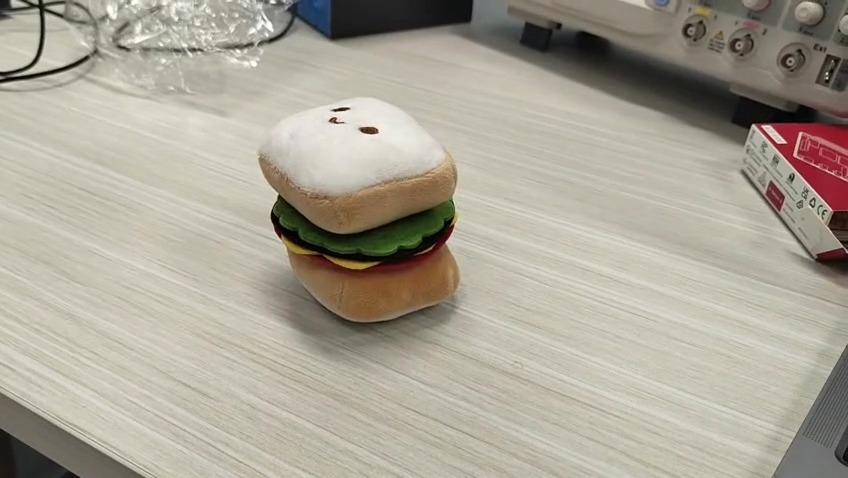objects: (261, 96, 463, 323)
